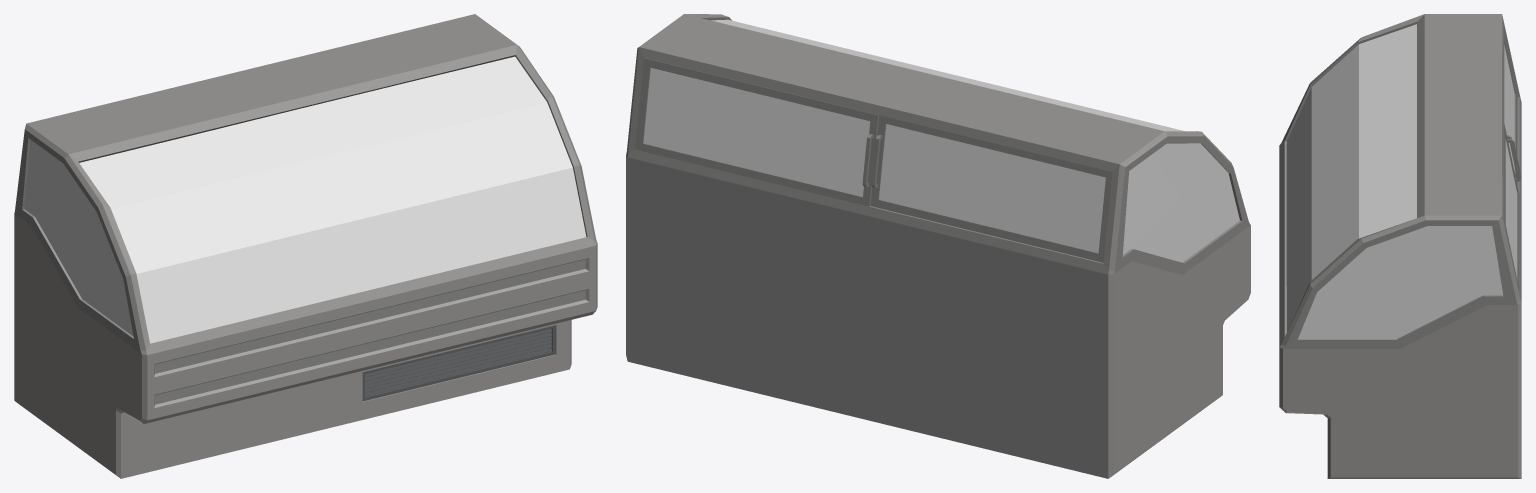
File: SM_Props_Interior_SuperMarket_Display_Food_Preset_IceCream.fbx
The picture shows the model from 3 angles, left to right: view 1: azimuth 30°, elevation 25°; view 2: azimuth 150°, elevation 25°; view 3: azimuth 270°, elevation 25°; orthographic projection. The views are drawn at different scales.
Visible parts, largest first — view 1: SM_Props_Interior_SuperMarket_Display_Food_Preset_IceCream; view 2: SM_Props_Interior_SuperMarket_Display_Food_Preset_IceCream, SM_Props_Interior_SuperMarket_Display_Food_Preset_IceCream_D (×2); view 3: SM_Props_Interior_SuperMarket_Display_Food_Preset_IceCream, SM_Props_Interior_SuperMarket_Display_Food_Preset_IceCream_D (×2).
Part boxes in pixels (x1=…): SM_Props_Interior_SuperMarket_Display_Food_Preset_IceCream: x1=14, y1=14, x2=597, y2=478; SM_Props_Interior_SuperMarket_Display_Food_Preset_IceCream: x1=626, y1=14, x2=1250, y2=478; SM_Props_Interior_SuperMarket_Display_Food_Preset_IceCream_D (×2): x1=635, y1=58, x2=1112, y2=262; SM_Props_Interior_SuperMarket_Display_Food_Preset_IceCream: x1=1279, y1=14, x2=1521, y2=478; SM_Props_Interior_SuperMarket_Display_Food_Preset_IceCream_D (×2): x1=1504, y1=36, x2=1521, y2=291.
Size of the model in its own units: 200 by 120 by 100.
